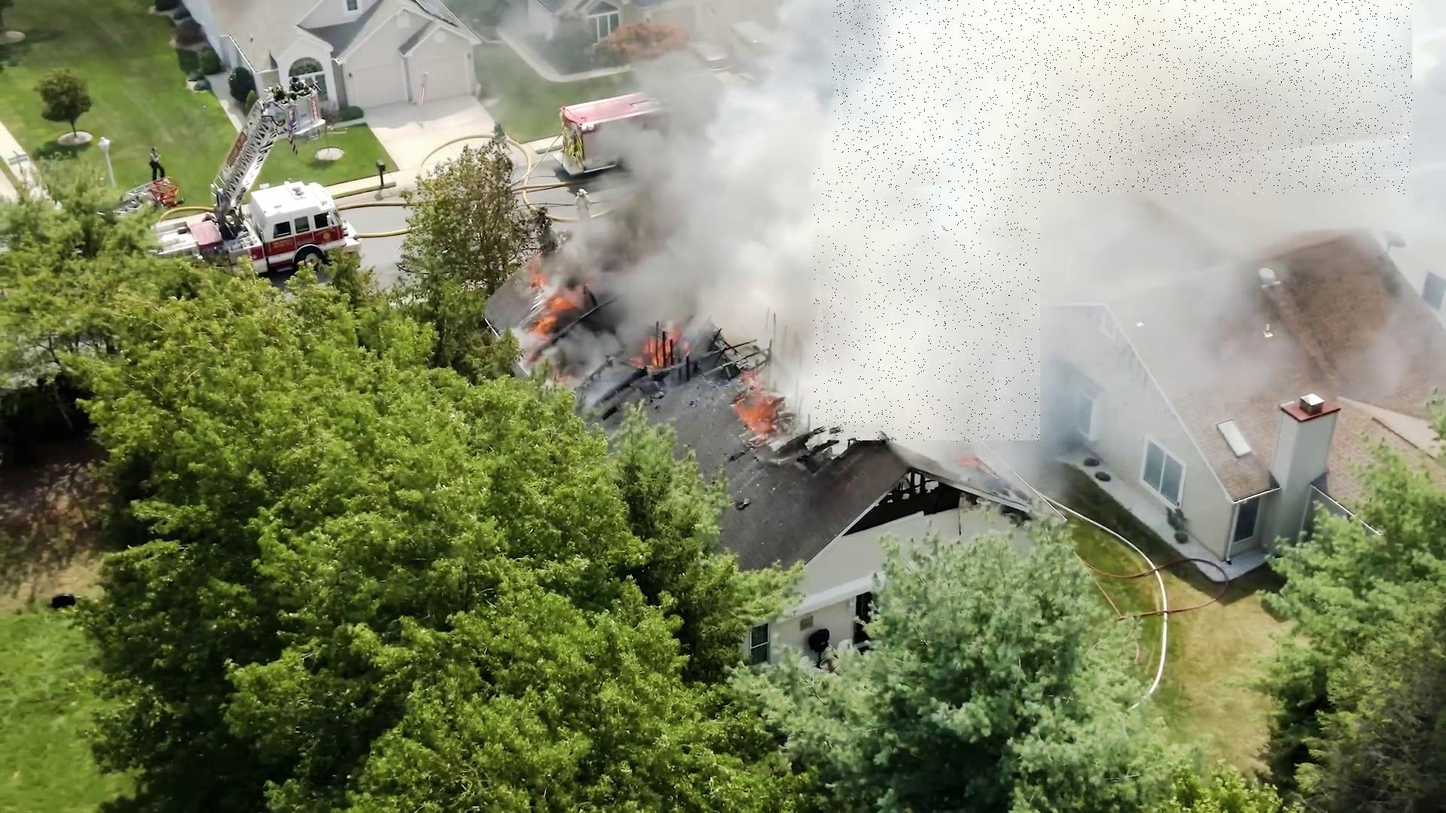smoke: (832, 0, 1412, 194), (814, 166, 1040, 443)
